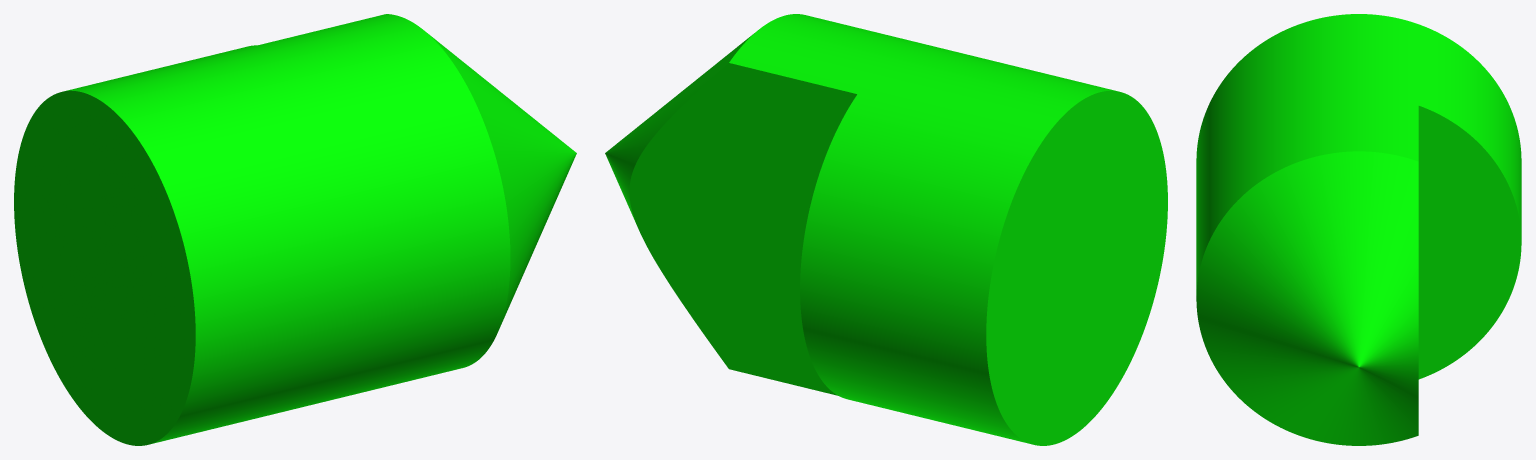
The picture shows the model from 3 angles, left to right: view 1: azimuth 30°, elevation 25°; view 2: azimuth 150°, elevation 25°; view 3: azimuth 270°, elevation 25°; orthographic projection. The views are drawn at different scales.
Visible parts, largest first — view 1: 拉伸4; view 2: 拉伸4; view 3: 拉伸4.
Boxes of the visible parts, left/top/right/bottom form: 拉伸4: left=14, top=14, right=576, bottom=445; 拉伸4: left=605, top=14, right=1167, bottom=445; 拉伸4: left=1196, top=14, right=1521, bottom=445.
Bounding box in the file's own units: 4.72 × 3.15 × 3.15.
